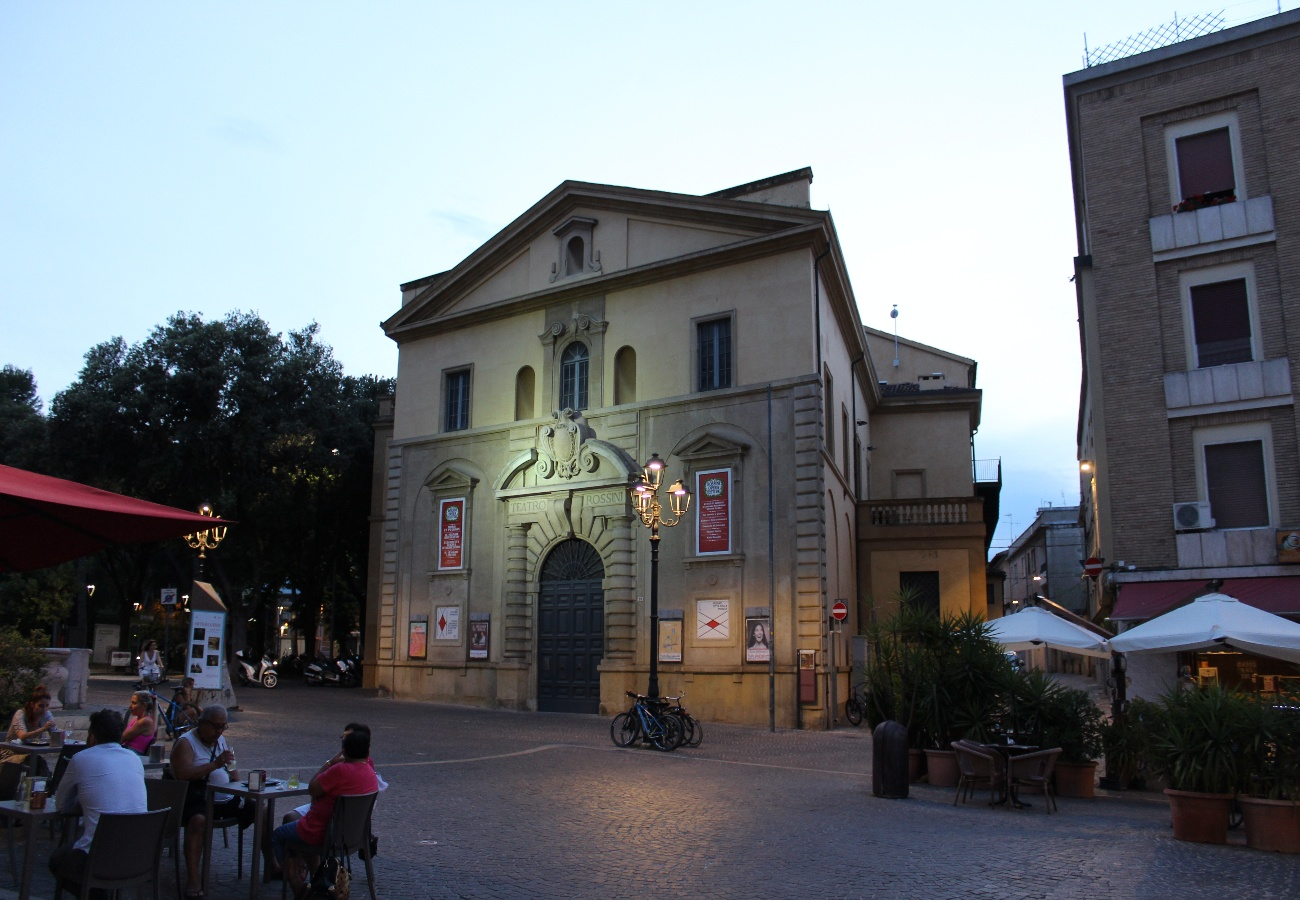Teatro Rossini: (372, 177, 822, 729)
